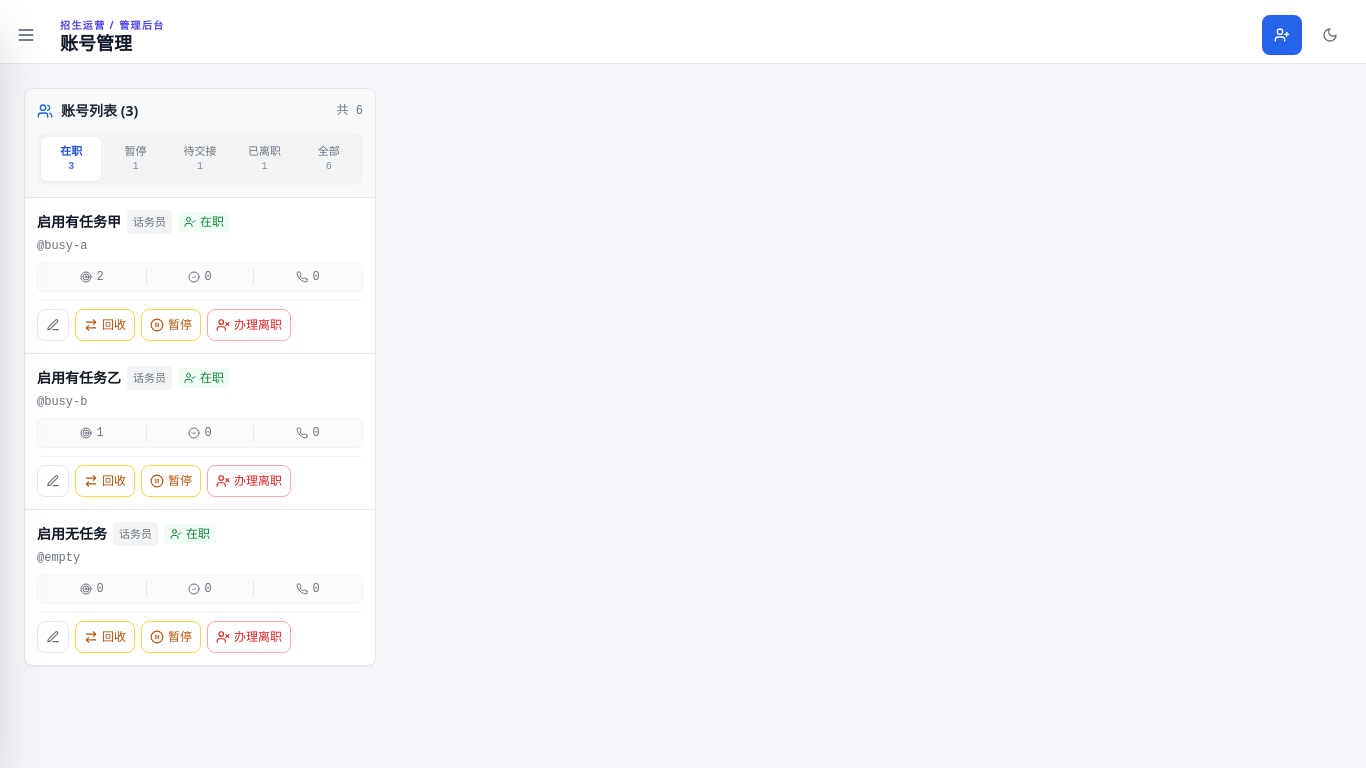
Test: AgentManage mobile navigation › shows only active agents by default and keeps inactive agents under the offboard tab
Check: the text "启用有任务甲" is shown, box [37,212,121,232]
Check: the text "离职有任务" is not shown
What coordinates should you click on to do the following:
click the button "待交接 1"
I would click on:
 (200, 159)
Its box is [170,137,230,181].
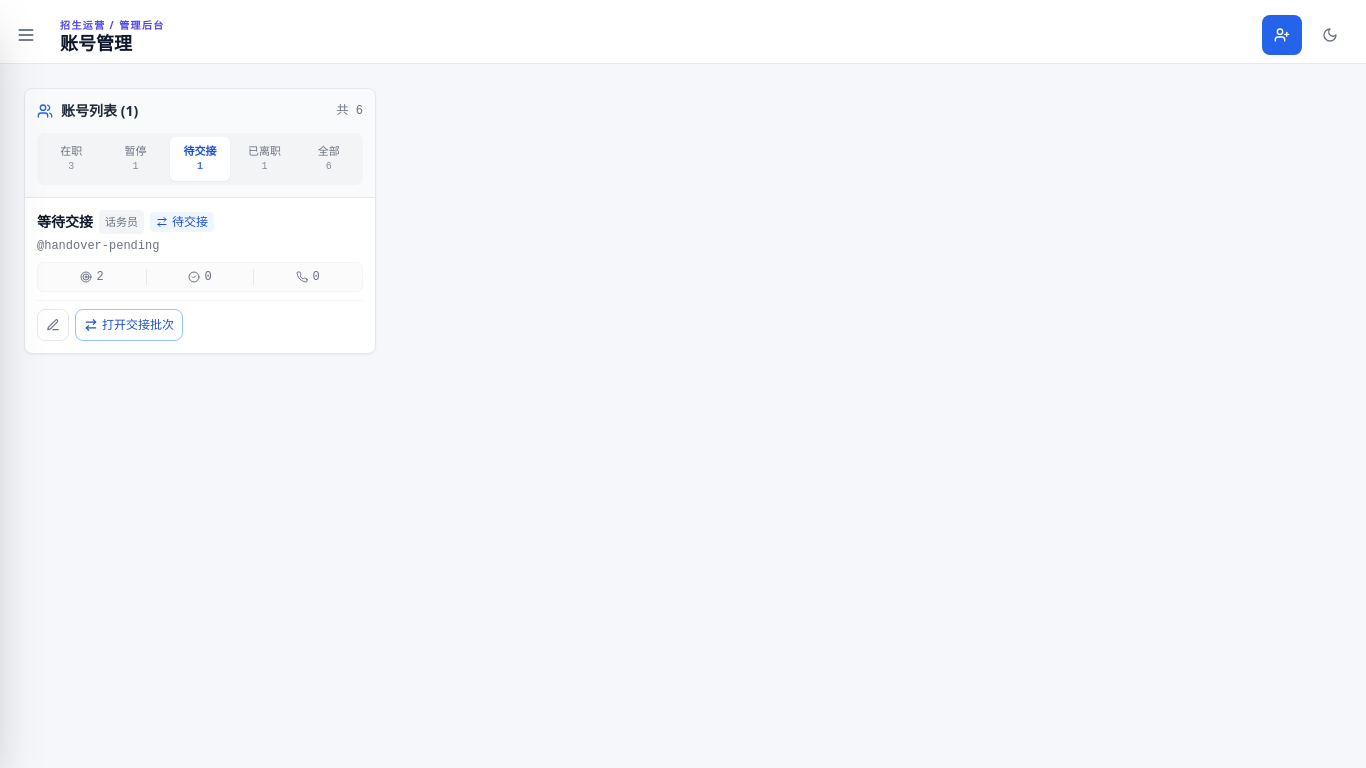
Check: the text "等待交接" is shown, box [37,212,93,232]
Check: the button "打开交接批次" is shown, box [75,309,183,341]
What coordinates should you click on to do the following:
click the button "已离职 1"
I would click on:
 (264, 159)
Its box is [234,137,295,181].
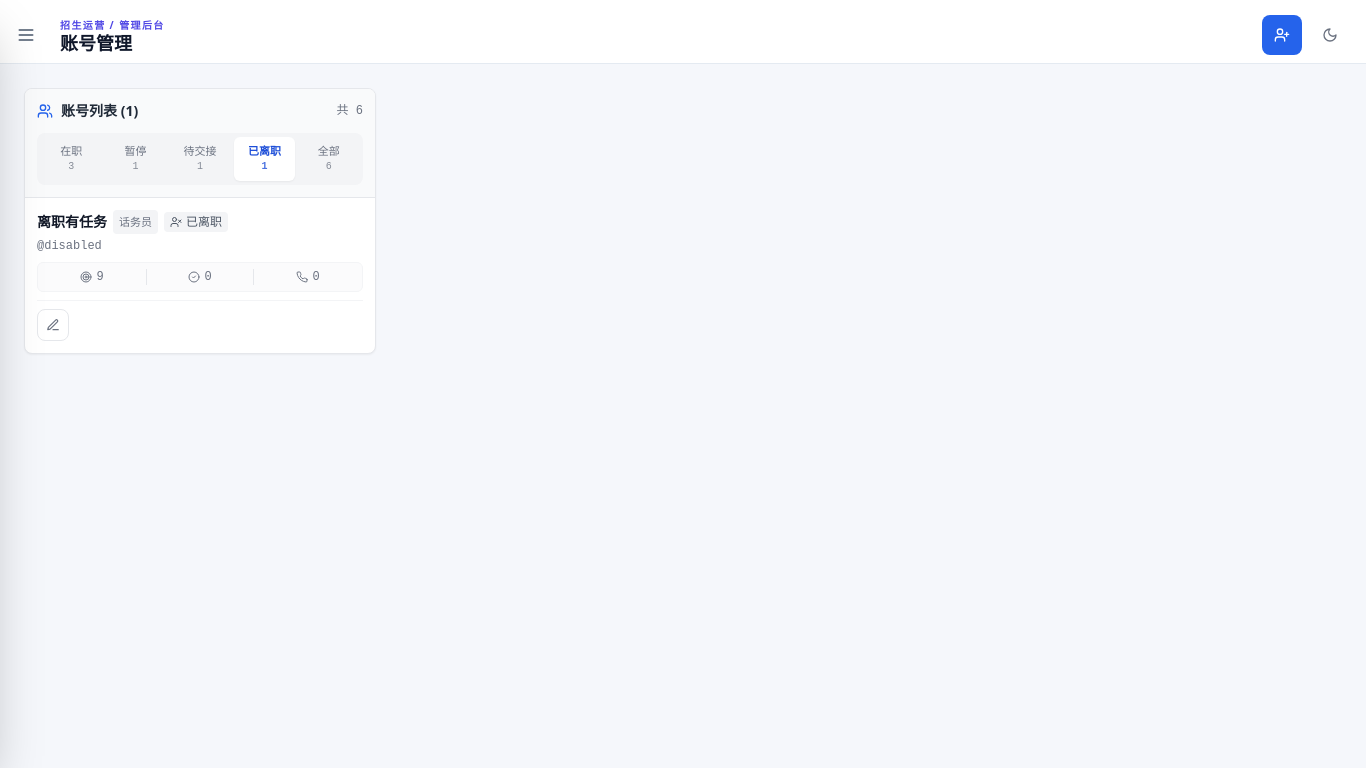
Check: the text "启用有任务甲" is not shown
Check: the heading "账号列表 (1)" is shown, box [37,101,138,121]
Check: the text "离职有任务" is shown, box [37,212,107,232]
